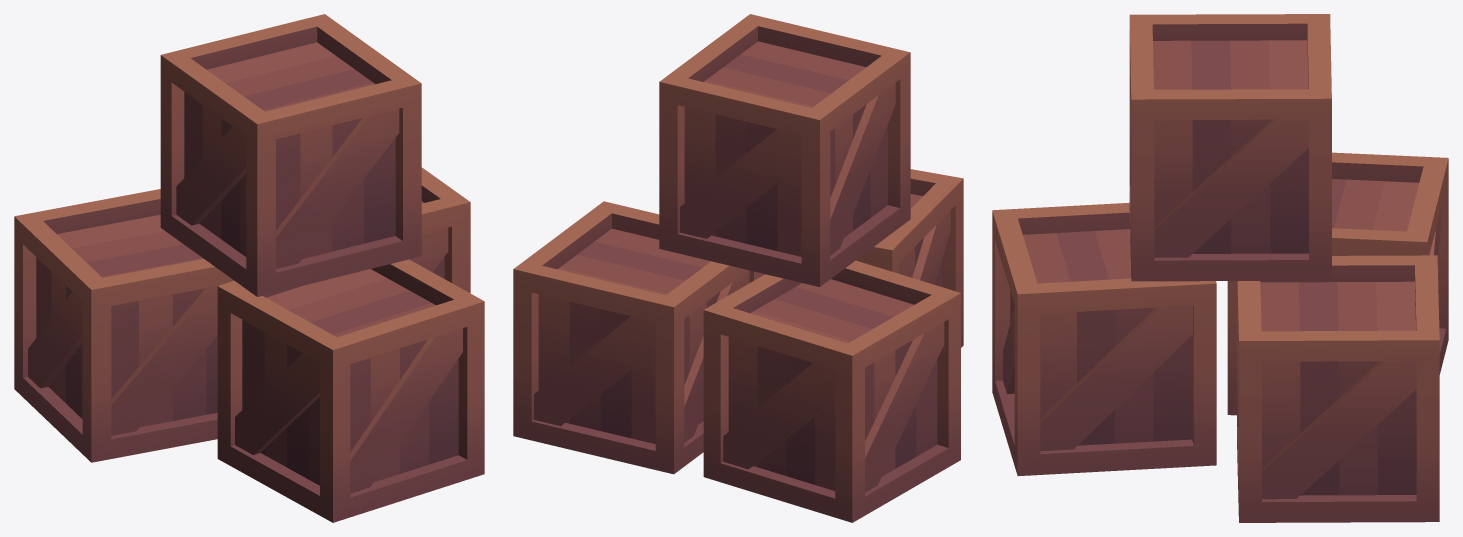
The model's file is ConstructionCrates.fbx.
3 renders of one model, left to right at view 1: azimuth 30°, elevation 25°; view 2: azimuth 150°, elevation 25°; view 3: azimuth 270°, elevation 25°, orthographic. The views are drawn at different scales.
Parts seen in each view (by area): view 1: Crate.001; view 2: Crate.001; view 3: Crate.001.
Part boxes in pixels (x1,y1,x2,y2): Crate.001: (14, 14, 484, 522); Crate.001: (513, 14, 963, 522); Crate.001: (992, 14, 1448, 522).
Bounding box in the file's own units: 30.98 × 27.95 × 31.08.
